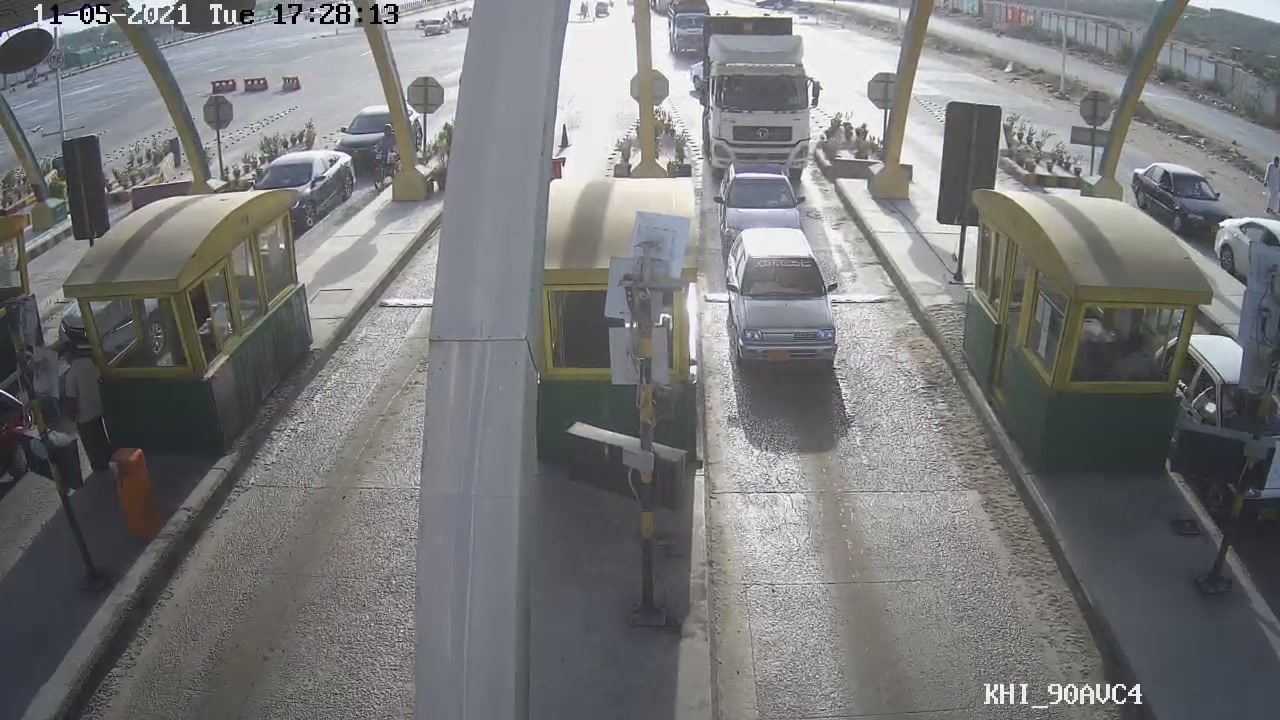F1: (714, 226, 853, 368)
